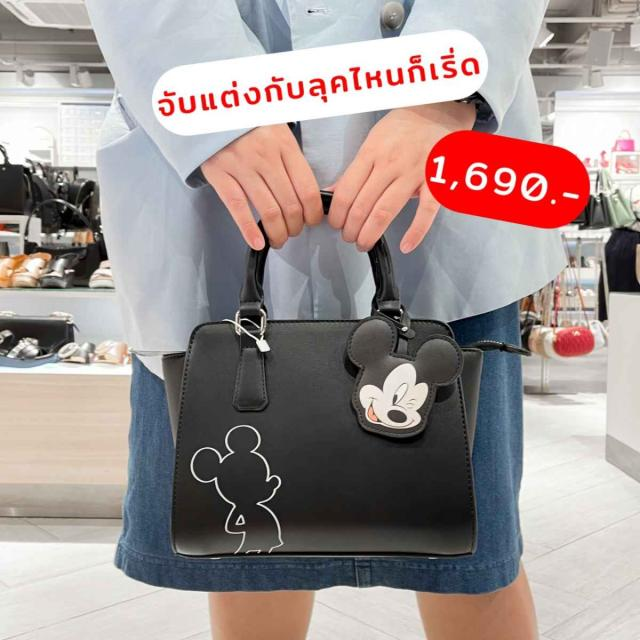Handbag: (144, 307, 546, 594)
